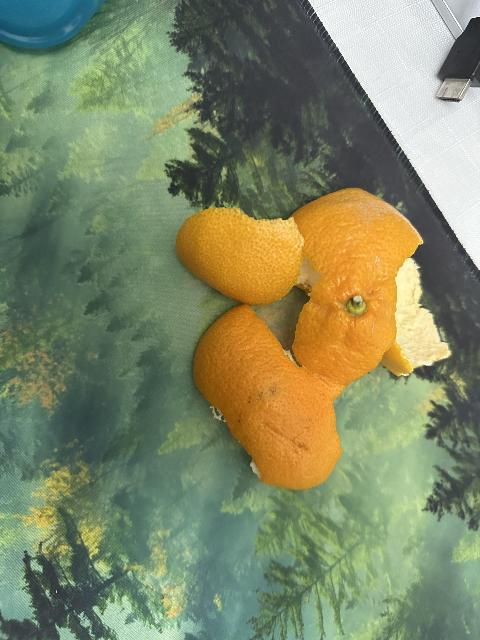Organik: (295, 192, 451, 383), (190, 306, 344, 489), (181, 205, 305, 300)
